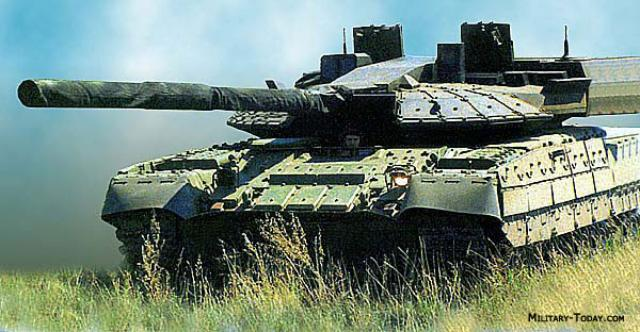tank: (128, 15, 636, 291)
